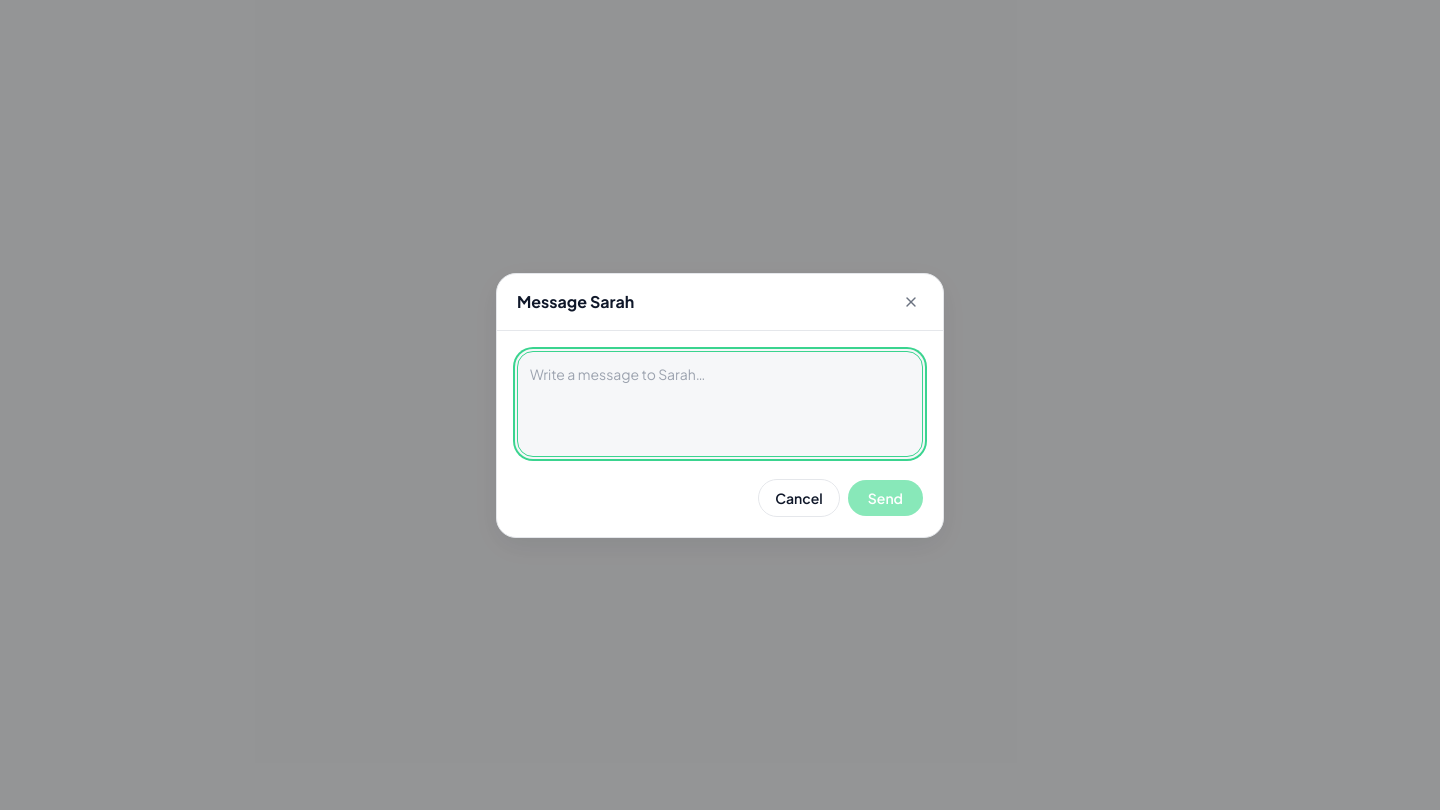
ProfileDmModal › keeps the text and shows an error when the create fails
This screenshot has width=1440, height=810.
Type "keep me" into the text box with placeholder "Write a message to Sarah…" at [720, 404], box [517,350,923,456]
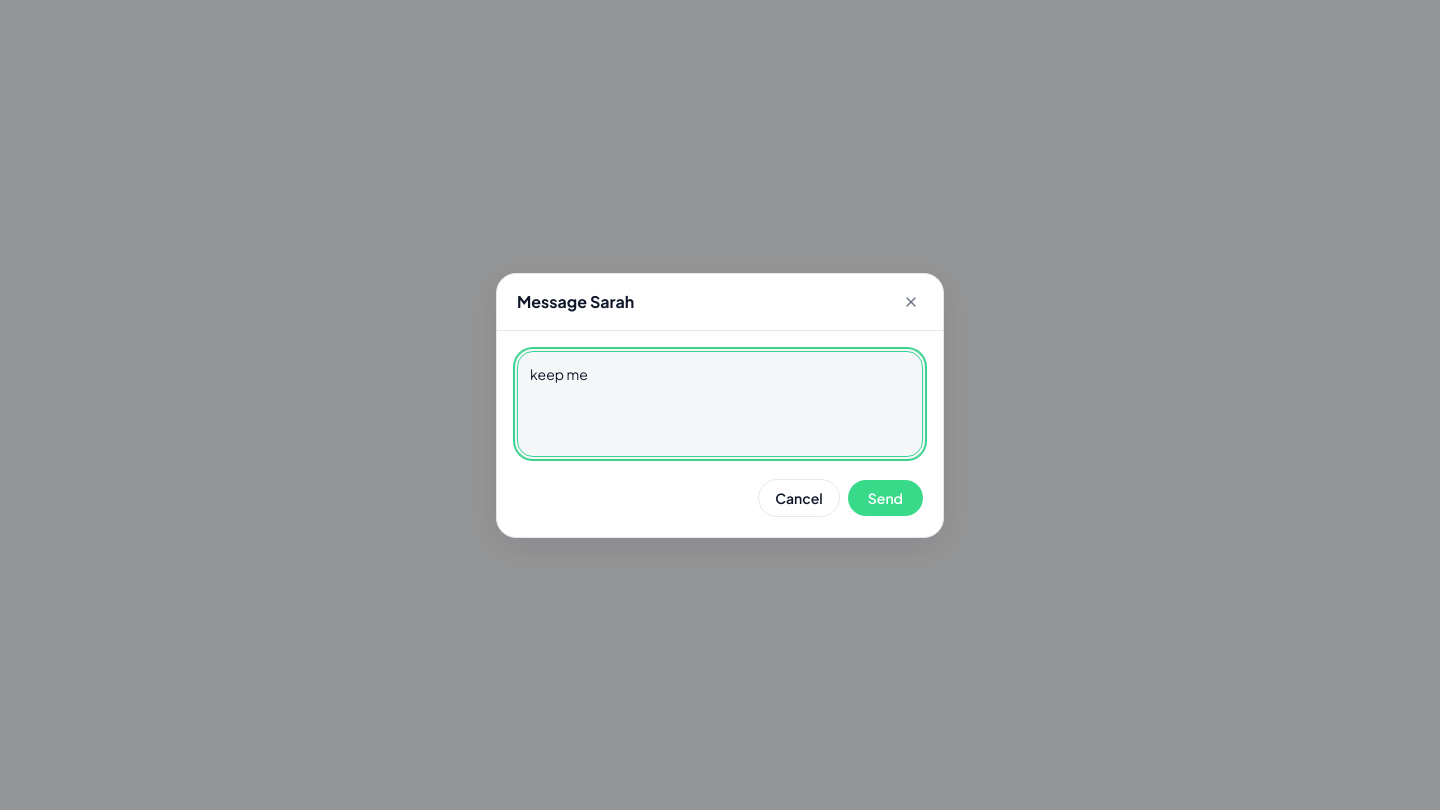
Click the button "Send" at [885, 498], box [848,480,923,516]
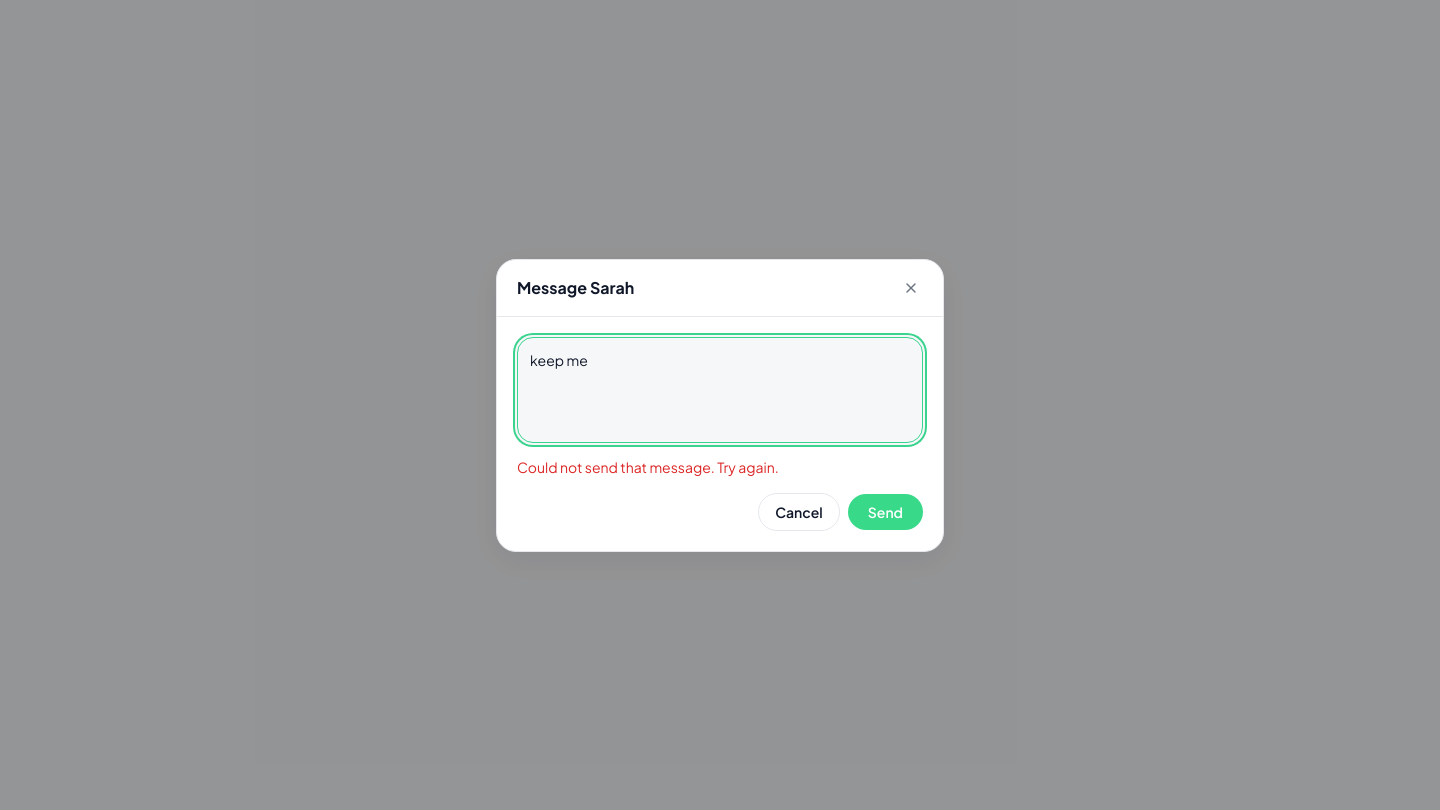
Result: the text "Could not send that message. Try again." is shown at [517,458,779,476]
